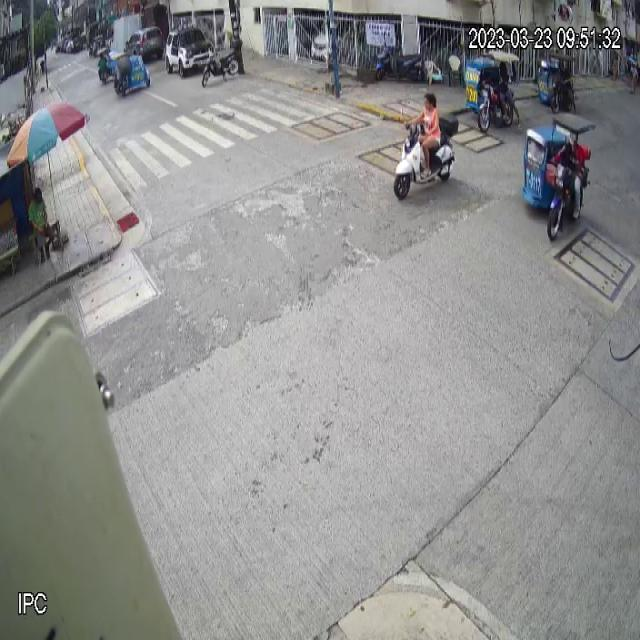Motorcycle: (393, 111, 459, 201)
Tricycle: (521, 112, 596, 241), (464, 50, 520, 133), (537, 53, 577, 114)
